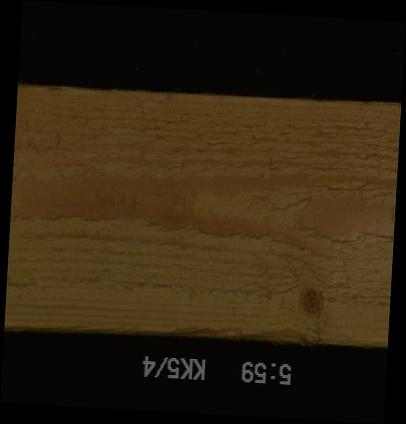sound_knot: (293, 284, 329, 321)
wave: (117, 321, 325, 340)
